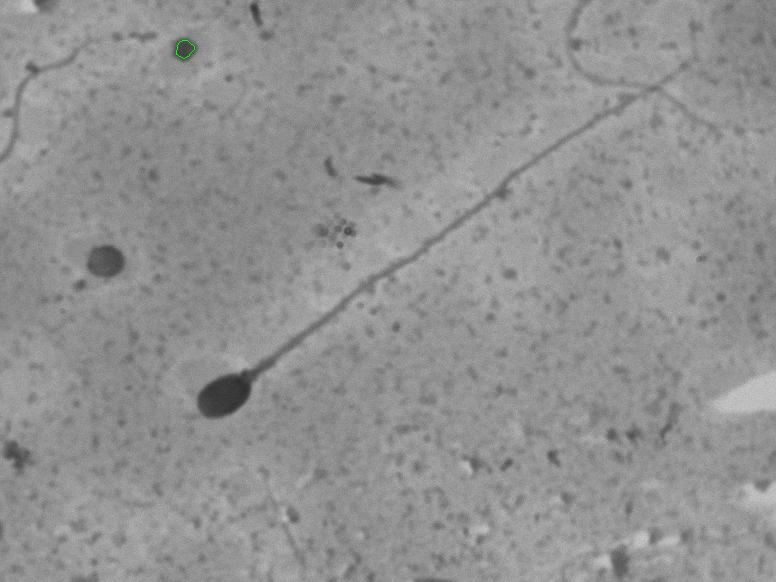Normal: (154, 30, 705, 456)
